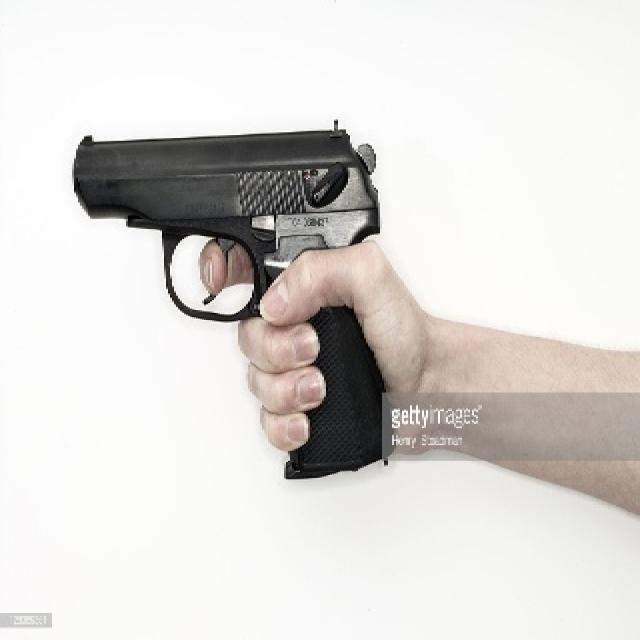handgun: (75, 118, 399, 480)
